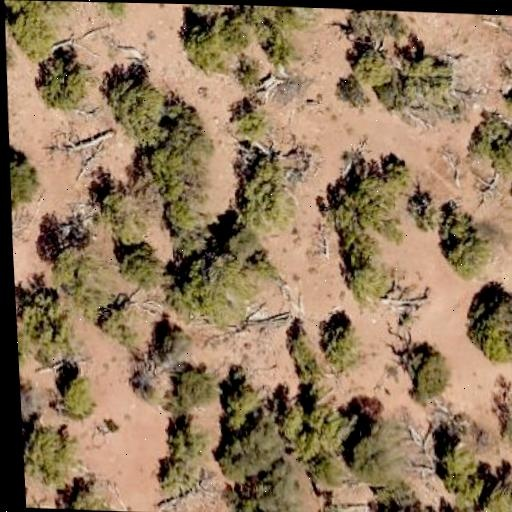tree-top: (157, 239, 262, 326), (128, 98, 214, 198), (210, 372, 284, 474), (322, 162, 410, 246), (232, 150, 306, 236), (270, 389, 351, 463), (346, 410, 417, 492), (99, 69, 173, 139), (38, 230, 115, 296), (108, 230, 173, 306), (458, 282, 512, 369), (431, 434, 496, 504), (435, 216, 502, 282), (31, 50, 98, 115), (15, 285, 73, 355), (93, 183, 154, 248), (22, 419, 82, 484), (176, 13, 239, 73), (398, 52, 460, 112), (399, 344, 459, 404), (153, 444, 213, 501), (312, 314, 369, 373), (165, 360, 226, 413), (341, 246, 396, 304), (466, 110, 512, 174), (230, 470, 300, 512), (164, 414, 219, 467), (343, 41, 397, 94), (6, 0, 76, 40), (50, 366, 101, 420), (145, 316, 196, 367), (349, 9, 414, 47), (114, 241, 164, 290), (224, 97, 273, 146), (163, 186, 209, 236), (94, 300, 140, 345), (55, 478, 116, 511), (9, 153, 42, 211), (237, 5, 309, 31), (372, 494, 474, 512), (404, 192, 444, 236), (375, 153, 415, 194), (263, 28, 301, 70), (477, 476, 512, 512), (233, 55, 265, 88), (501, 178, 512, 239), (501, 78, 512, 130), (89, 2, 129, 16)
